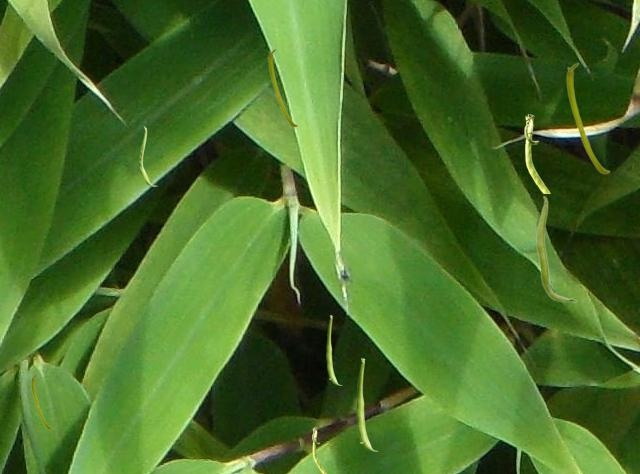french_bean: (566, 62, 609, 173), (535, 195, 576, 302), (268, 48, 297, 126), (524, 114, 549, 192), (356, 358, 377, 450), (31, 374, 51, 428), (326, 315, 341, 384), (139, 126, 156, 185), (312, 427, 325, 472)
